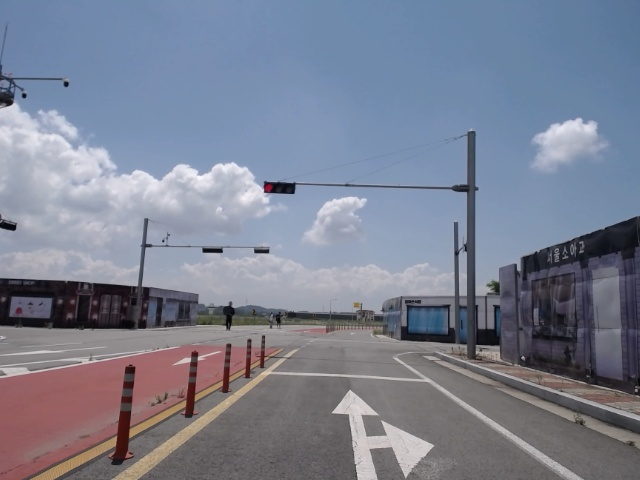red_3: (263, 182, 298, 195)
